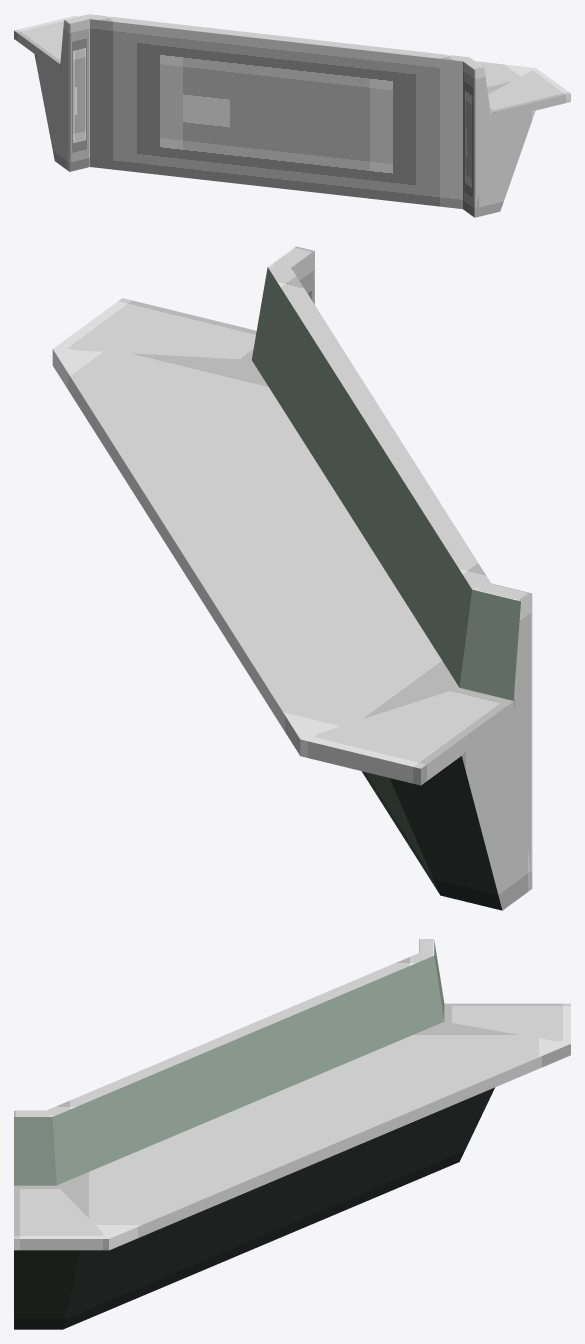
File: desk_corner_outside_2_item.obj
The picture shows the model from 3 angles, top to bottom: view 1: azimuth 30°, elevation 25°; view 2: azimuth 150°, elevation 25°; view 3: azimuth 270°, elevation 25°; orthographic projection. The views are drawn at different scales.
Size of the model in its own units: 2.75 by 1.1 by 2.75.
